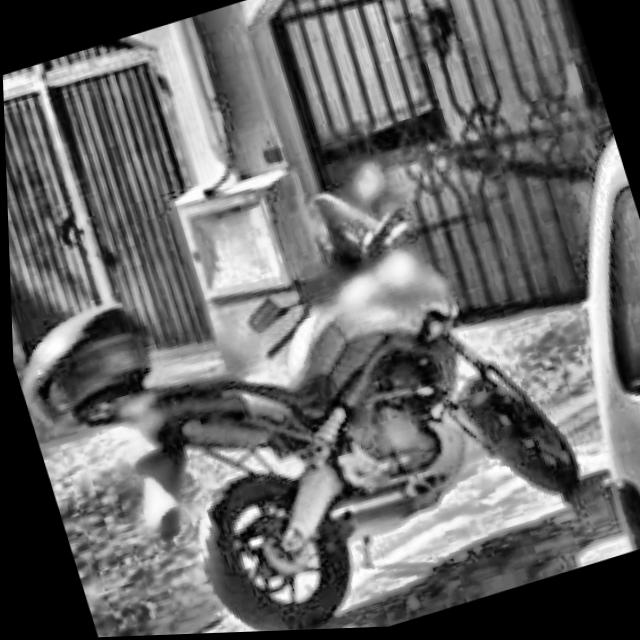motorcycle: (4, 119, 629, 640)
